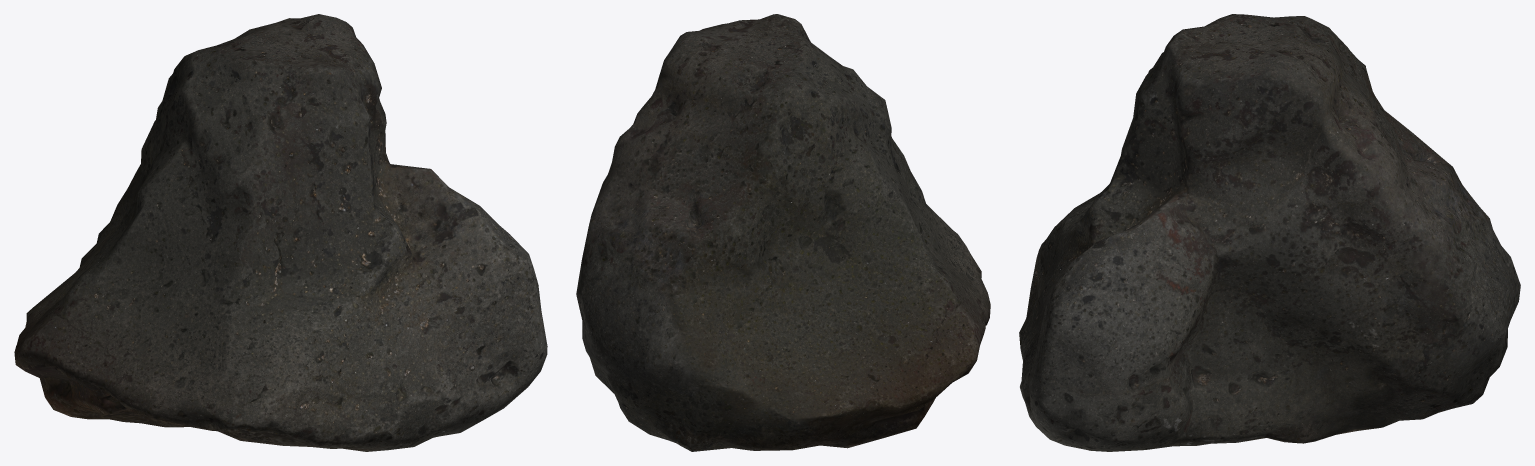
Rendered from SM_yicragw_tier_2.gltf.
3 renders of one model, left to right at view 1: azimuth 30°, elevation 25°; view 2: azimuth 150°, elevation 25°; view 3: azimuth 270°, elevation 25°, orthographic. The views are drawn at different scales.
Parts seen in each view (by area): view 1: yicragw_LOD2_TIER2_000; view 2: yicragw_LOD2_TIER2_000; view 3: yicragw_LOD2_TIER2_000.
Part boxes in pixels (left/top/right/bottom): yicragw_LOD2_TIER2_000: left=14, top=14, right=547, bottom=451; yicragw_LOD2_TIER2_000: left=576, top=14, right=990, bottom=451; yicragw_LOD2_TIER2_000: left=1019, top=14, right=1520, bottom=451.
Bounding box in the file's own units: 0.5014 × 0.4116 × 0.4852.
Materials: 1 (1 with a texture image).
